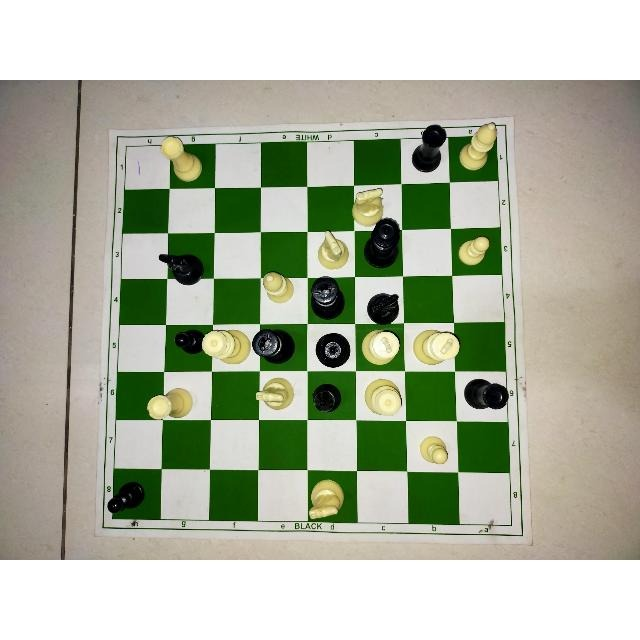black-bishop: (310, 383, 343, 415)
black-king: (252, 327, 302, 369), (309, 276, 347, 321)
black-knight: (156, 249, 206, 288), (362, 288, 406, 324)
black-pawn: (104, 478, 149, 520), (168, 328, 205, 356)
black-queen: (362, 218, 404, 270), (311, 331, 351, 367)
black-rook: (410, 121, 449, 176), (462, 375, 511, 417)
white-bishop: (455, 117, 503, 174), (259, 270, 298, 308)
white-king: (411, 328, 463, 367), (358, 325, 401, 367)
white-knight: (300, 478, 350, 522), (351, 181, 390, 228), (252, 377, 300, 412), (314, 230, 348, 272)
white-pawn: (453, 232, 497, 268), (412, 432, 451, 467)
white-queen: (201, 326, 251, 368), (363, 378, 405, 417)
white-rook: (158, 132, 210, 182), (145, 385, 195, 424)
